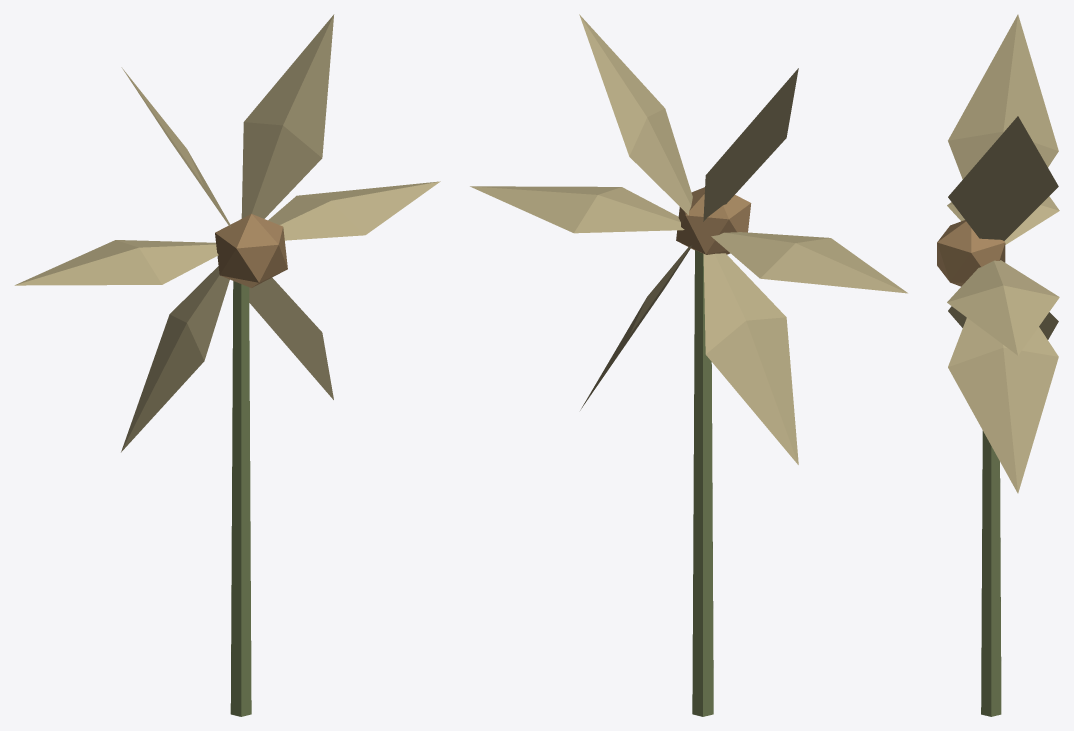
Rendered from map-exclusive-v3__meadow_11.glb.
3 views of the same model, side by side, from view 1: azimuth 30°, elevation 25°; view 2: azimuth 150°, elevation 25°; view 3: azimuth 270°, elevation 25° (orthographic). The views are drawn at different scales.
Visible parts, largest first — view 1: meadow_11; view 2: meadow_11; view 3: meadow_11.
Part boxes in pixels (x1=…): meadow_11: x1=14, y1=14, x2=440, y2=716; meadow_11: x1=470, y1=14, x2=907, y2=716; meadow_11: x1=937, y1=14, x2=1059, y2=716.
Size of the model in its own units: 1.44 by 2.13 by 0.367.
